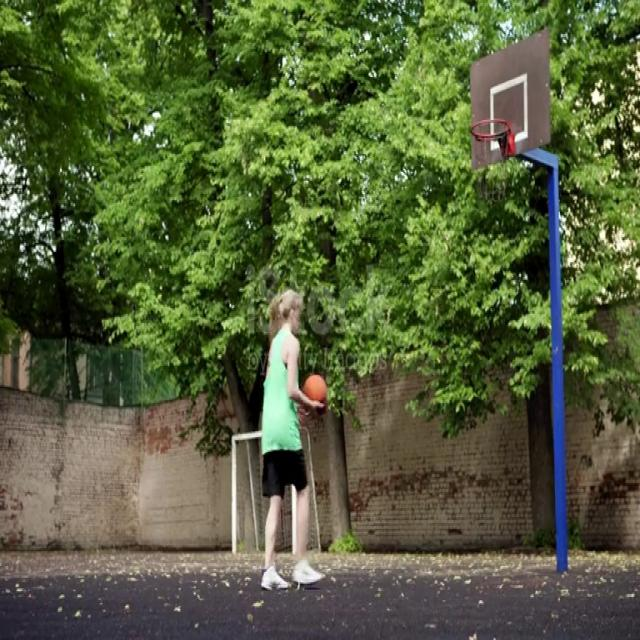ball: (302, 373, 328, 406)
